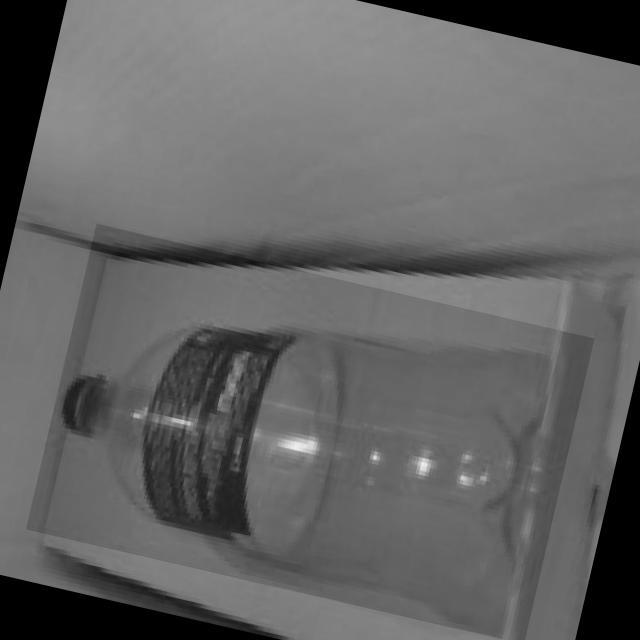good: (23, 223, 593, 640)
